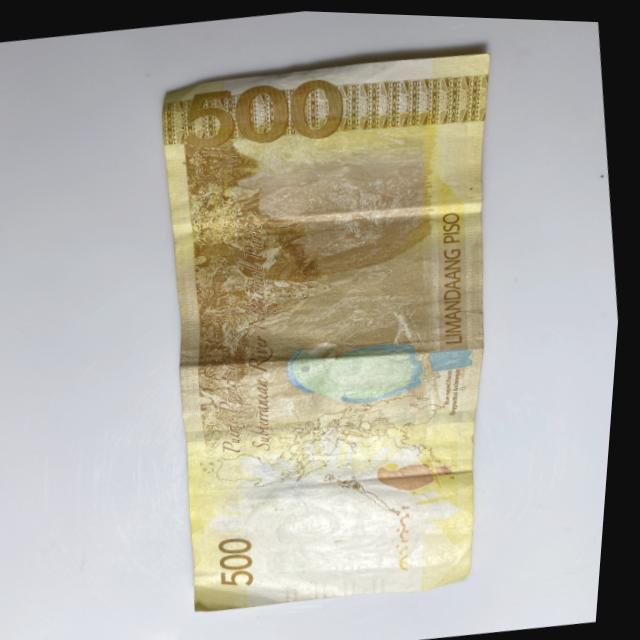500_big_parrot: (290, 314, 480, 415)
500_parrot_watermark: (381, 450, 463, 492)
value_watermark: (331, 555, 377, 579)
